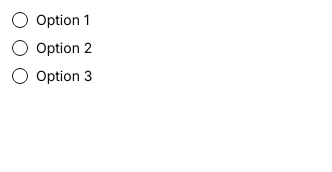
Test: BaseRadioGroup › User Interaction › only one option can be selected at a time
What coordinates should you click on to do the following:
click the radio button named "Option 1" next to "Option 1"
I would click on:
 (20, 20)
Its box is [12,12,28,28].
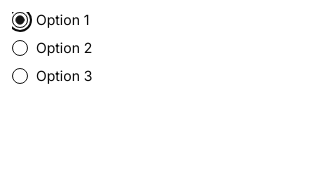
Check: the radio button named "Option 1" next to "Option 1" is checked, box [12,12,28,28]
What coordinates should you click on to do the following:
click the radio button named "Option 2" next to "Option 2"
I would click on:
 (20, 48)
Its box is [12,40,28,56].
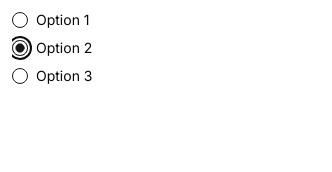
Check: the radio button named "Option 1" next to "Option 1" is not checked, box [12,12,28,28]
Check: the radio button named "Option 2" next to "Option 2" is checked, box [12,40,28,56]
